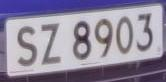0: (114, 11, 137, 60)
3: (135, 8, 156, 58)
8: (70, 15, 94, 66)
9: (92, 13, 116, 64)
S: (13, 21, 41, 68)
Z: (37, 18, 63, 68)
